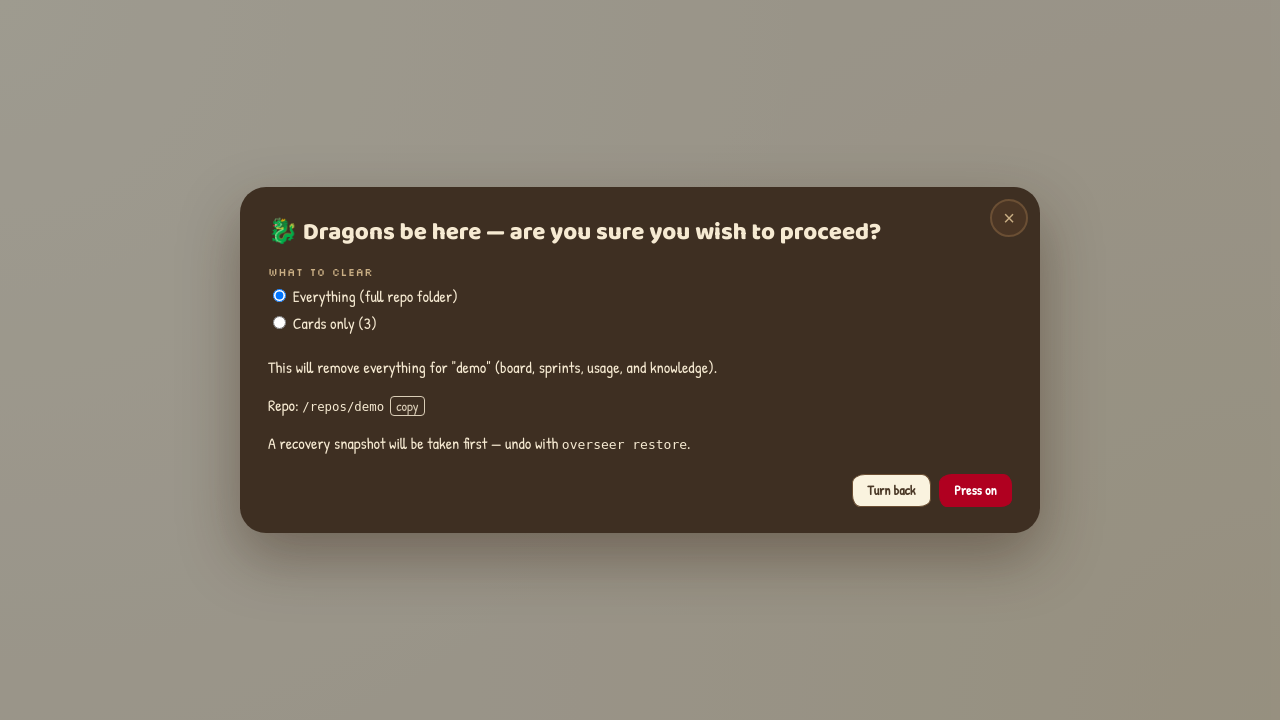
<ClearDialog/> › the final Slay it button is disabled until the repo label is typed exactly
Click the button "Press on" at (975, 490), box [939, 474, 1012, 507]
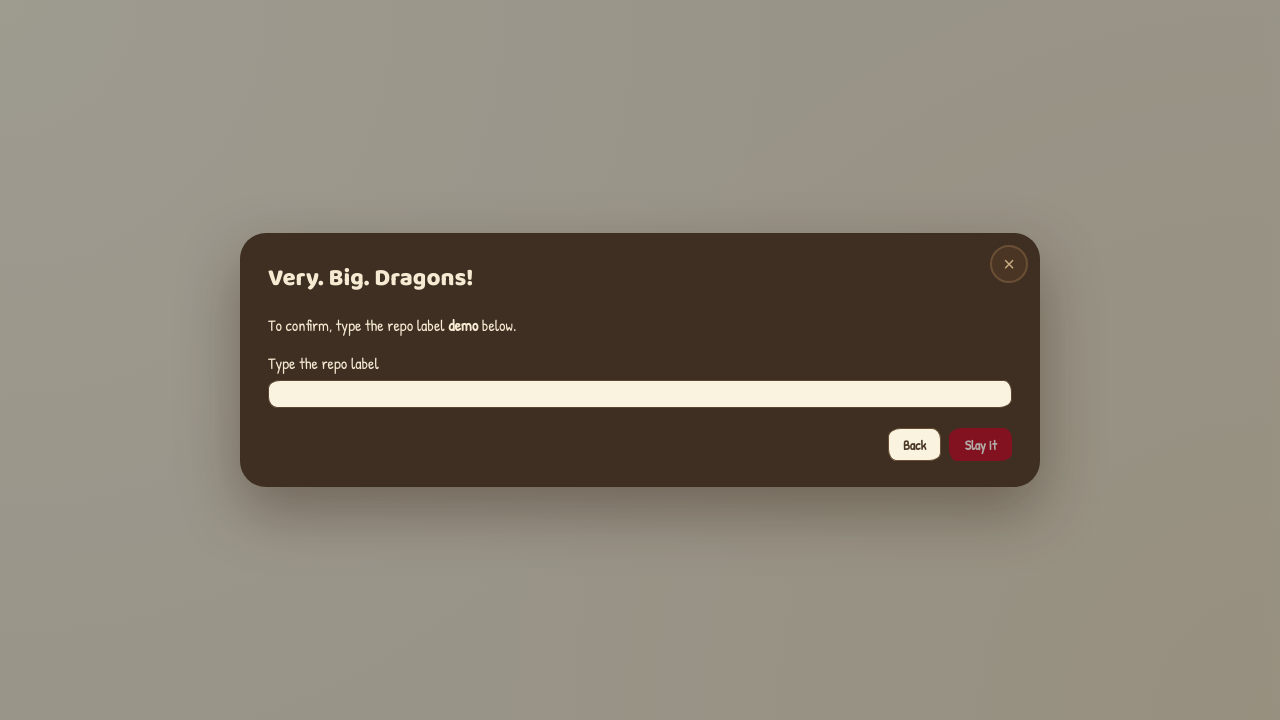
Now the button "Slay it" is disabled, box [949, 428, 1012, 461]
Type "wrong" into the field labelled "Type the repo label" at (640, 394), box [268, 380, 1012, 408]
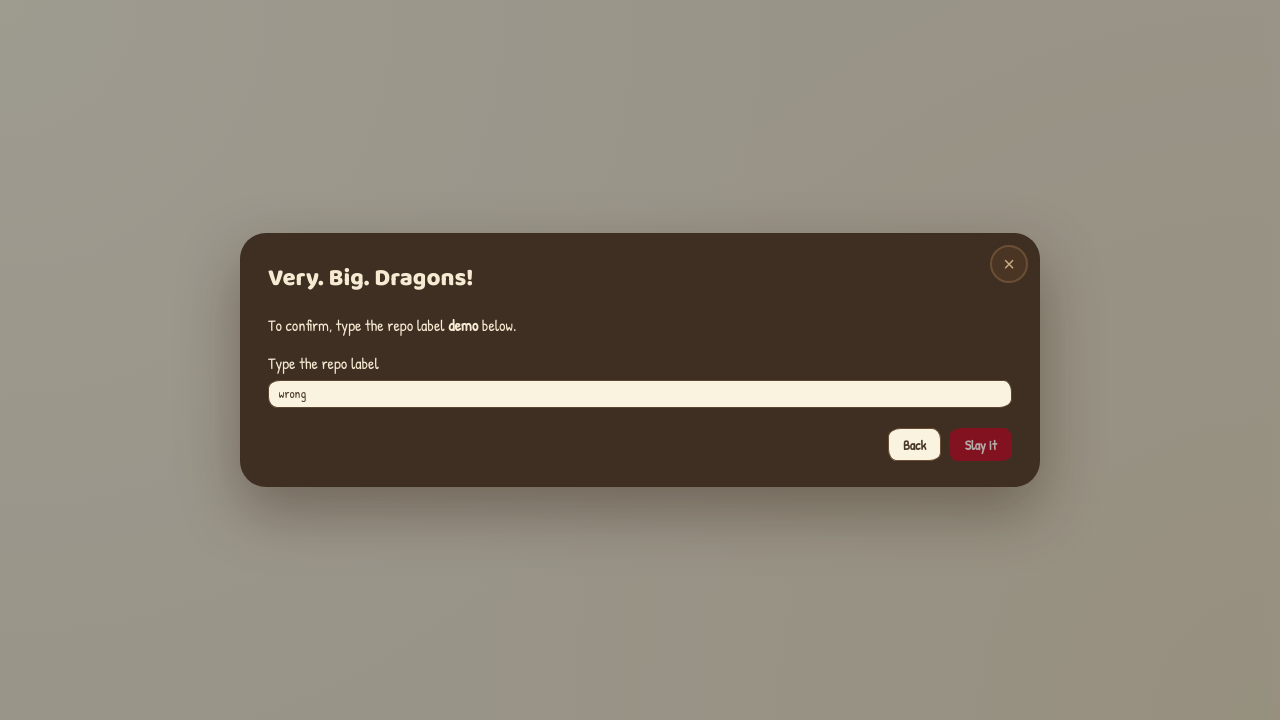
Now the button "Slay it" is disabled, box [949, 428, 1012, 461]
Replace the text in the field labelled "Type the repo label" with "demo" at (640, 394), box [268, 380, 1012, 408]
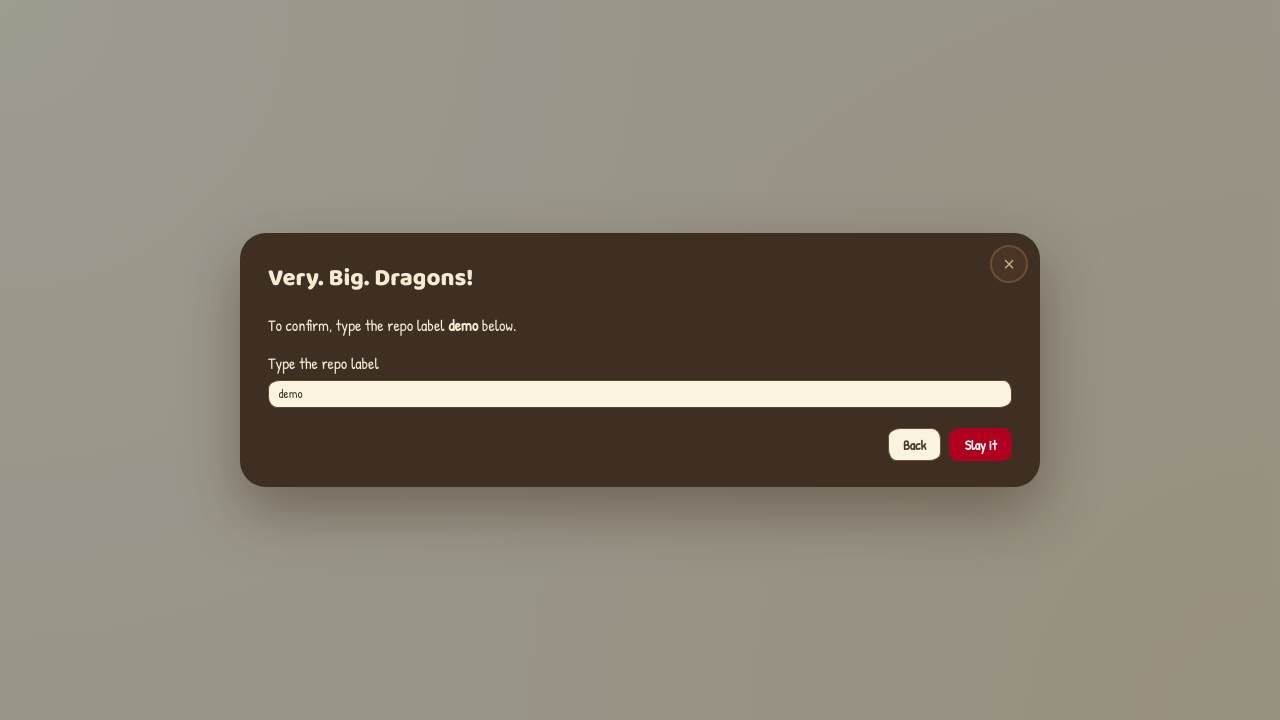
Now the button "Slay it" is enabled, box [949, 428, 1012, 461]
